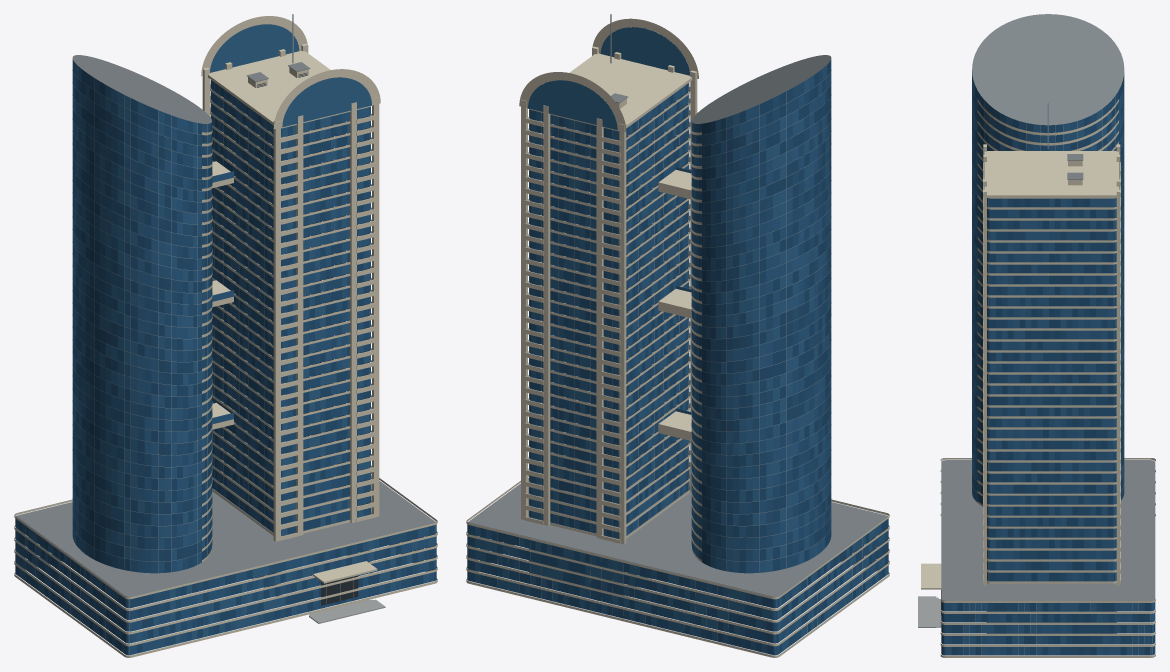
The model's file is ktz-r1-draco.glb.
3 renders of one model, left to right at view 1: azimuth 30°, elevation 25°; view 2: azimuth 150°, elevation 25°; view 3: azimuth 270°, elevation 25°, orthographic. The views are drawn at different scales.
Visible parts, largest first — view 1: KTZ stone, KTZ glass2, KTZ glass3, KTZ glass0, KTZ glass1, KTZ roof, KTZ frame, KTZ paving, KTZ recess; view 2: KTZ stone, KTZ glass2, KTZ glass3, KTZ glass0, KTZ glass1, KTZ roof, KTZ frame; view 3: KTZ stone, KTZ roof, KTZ glass0, KTZ glass2, KTZ glass1, KTZ glass3, KTZ frame, KTZ paving.
Boxes of the visible parts, box(x1,y1,x2,y2) form: KTZ stone: box(14, 16, 437, 657); KTZ glass2: box(15, 24, 435, 653); KTZ glass3: box(15, 59, 436, 654); KTZ glass0: box(16, 60, 435, 649); KTZ glass1: box(15, 67, 436, 655); KTZ roof: box(16, 55, 436, 597); KTZ frame: box(15, 14, 436, 654); KTZ paving: box(309, 599, 385, 623); KTZ recess: box(257, 72, 358, 605); KTZ stone: box(466, 18, 889, 657); KTZ glass2: box(467, 27, 888, 655); KTZ glass3: box(467, 62, 888, 649); KTZ glass0: box(468, 69, 888, 655); KTZ glass1: box(467, 60, 888, 654); KTZ roof: box(467, 55, 887, 597); KTZ frame: box(467, 14, 888, 641); KTZ stone: box(921, 99, 1155, 657); KTZ roof: box(941, 14, 1155, 600); KTZ glass0: box(941, 75, 1155, 655); KTZ glass2: box(941, 73, 1155, 655); KTZ glass1: box(941, 71, 1155, 655); KTZ glass3: box(941, 76, 1154, 655); KTZ frame: box(941, 96, 1154, 654); KTZ paving: box(918, 596, 941, 627).
Size of the model in its own units: 93.42 by 157 by 65.61.
